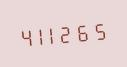five: (93, 17, 107, 43)
four: (17, 24, 31, 49)
one: (32, 22, 46, 48), (48, 21, 62, 47)
six: (78, 18, 92, 44)
two: (63, 20, 77, 45)
